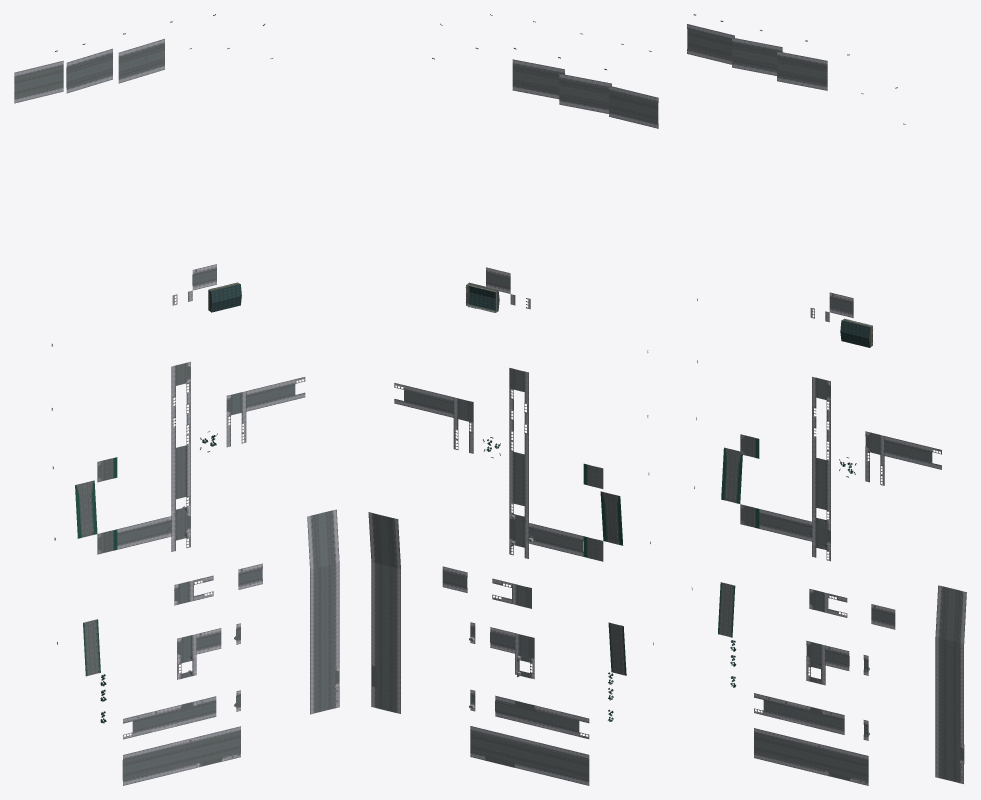
Rendered from industnw_industnw__part_02.obj.
3 renders of one model, left to right at view 1: azimuth 30°, elevation 25°; view 2: azimuth 150°, elevation 25°; view 3: azimuth 330°, elevation 25°, orthographic. The views are drawn at different scales.
Parts seen in each view (by area): view 1: industnw_industnw__part_02; view 2: industnw_industnw__part_02; view 3: industnw_industnw__part_02.
Part boxes in pixels (x1=…): industnw_industnw__part_02: x1=14, y1=14, x2=339, y2=785; industnw_industnw__part_02: x1=368, y1=14, x2=658, y2=785; industnw_industnw__part_02: x1=687, y1=14, x2=966, y2=785.
Size of the model in its own units: 310 by 727 by 37.94.
Materials: 96 (96 with a texture image).
